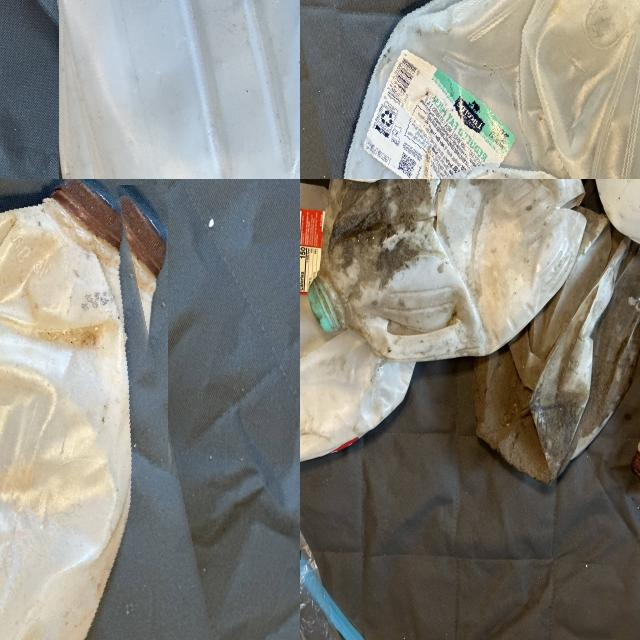milk-jug: (0, 179, 193, 640), (311, 0, 640, 179), (469, 200, 640, 484), (34, 0, 300, 179), (318, 179, 582, 352), (300, 182, 432, 447)
